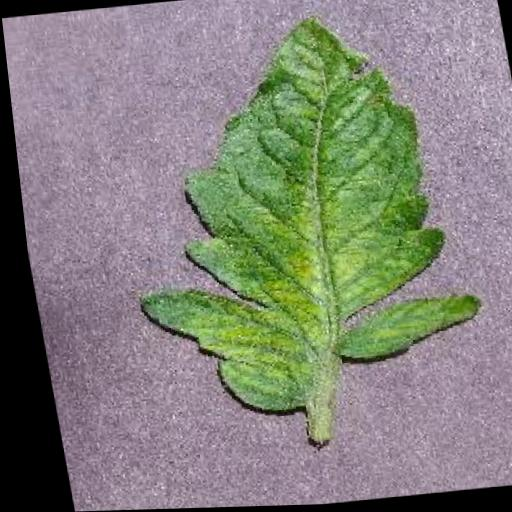Mosaic Virus: (90, 6, 488, 426)
